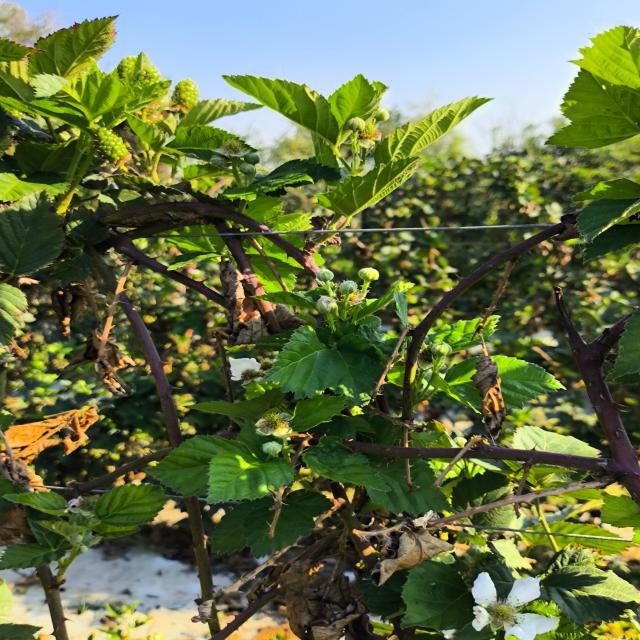boton: (358, 268, 379, 299), (316, 296, 338, 315), (262, 441, 283, 456), (346, 117, 365, 132), (338, 281, 357, 295), (316, 269, 334, 282), (373, 108, 390, 121)
